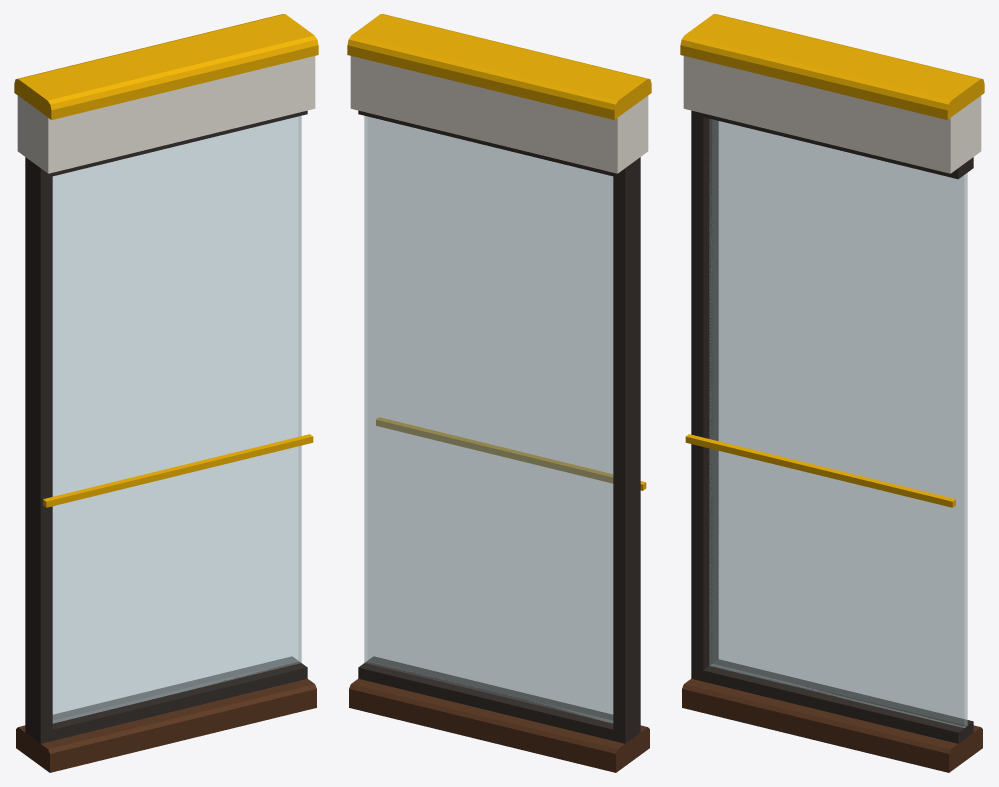
The model's file is wand_voll_fenster.glb.
The picture shows the model from 3 angles, left to right: view 1: azimuth 30°, elevation 25°; view 2: azimuth 150°, elevation 25°; view 3: azimuth 330°, elevation 25°; orthographic projection.
Parts seen in each view (by area): view 1: wand_voll_fenster; view 2: wand_voll_fenster; view 3: wand_voll_fenster.
Boxes of the visible parts, x1=… form: wand_voll_fenster: x1=14, y1=14, x2=318, y2=772; wand_voll_fenster: x1=347, y1=14, x2=651, y2=772; wand_voll_fenster: x1=680, y1=14, x2=984, y2=772.
Size of the model in its own units: 1 by 2.4 by 0.24.
